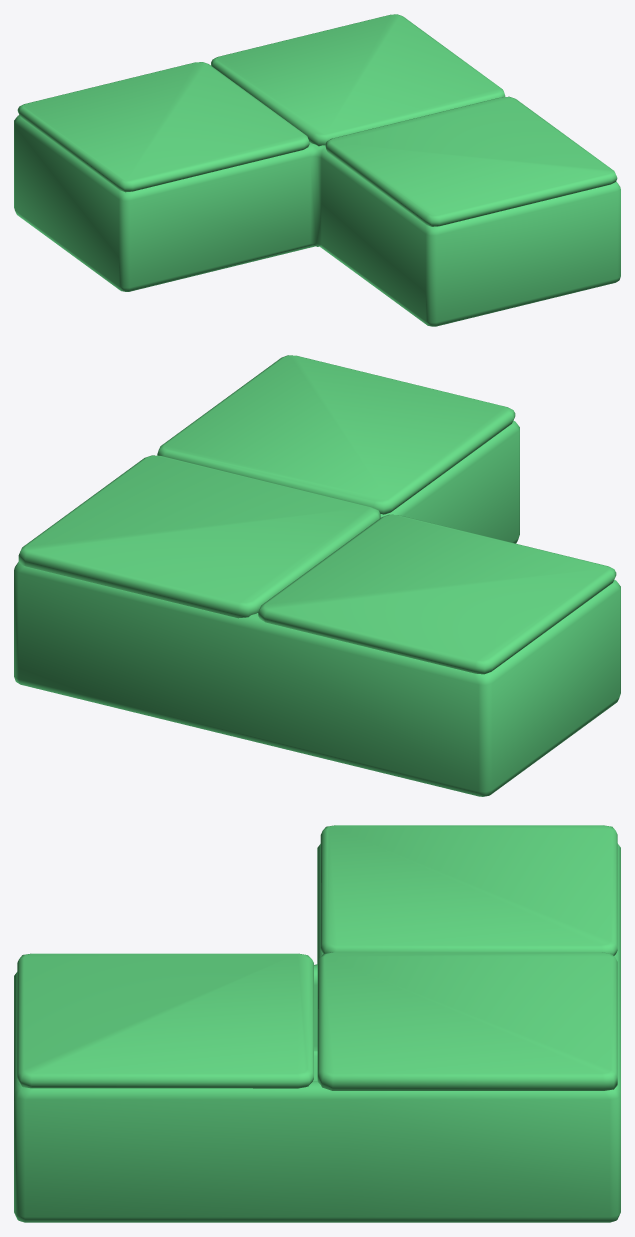
The model's file is Block-L-Green.fbx.
3 renders of one model, top to bottom at view 1: azimuth 30°, elevation 25°; view 2: azimuth 150°, elevation 25°; view 3: azimuth 270°, elevation 25°, orthographic. The views are drawn at different scales.
Parts seen in each view (by area): view 1: Cube.005, Block-L-Green; view 2: Cube.005, Block-L-Green; view 3: Cube.005, Block-L-Green.
Part boxes in pixels (x1=…): Cube.005: x1=17, y1=14, x2=617, y2=226; Block-L-Green: x1=14, y1=115, x2=620, y2=326; Cube.005: x1=18, y1=355, x2=616, y2=674; Block-L-Green: x1=14, y1=420, x2=620, y2=796; Cube.005: x1=17, y1=825, x2=617, y2=1090; Block-L-Green: x1=14, y1=843, x2=620, y2=1222.
Bounding box in the file's own units: 200 × 54.25 × 200.
